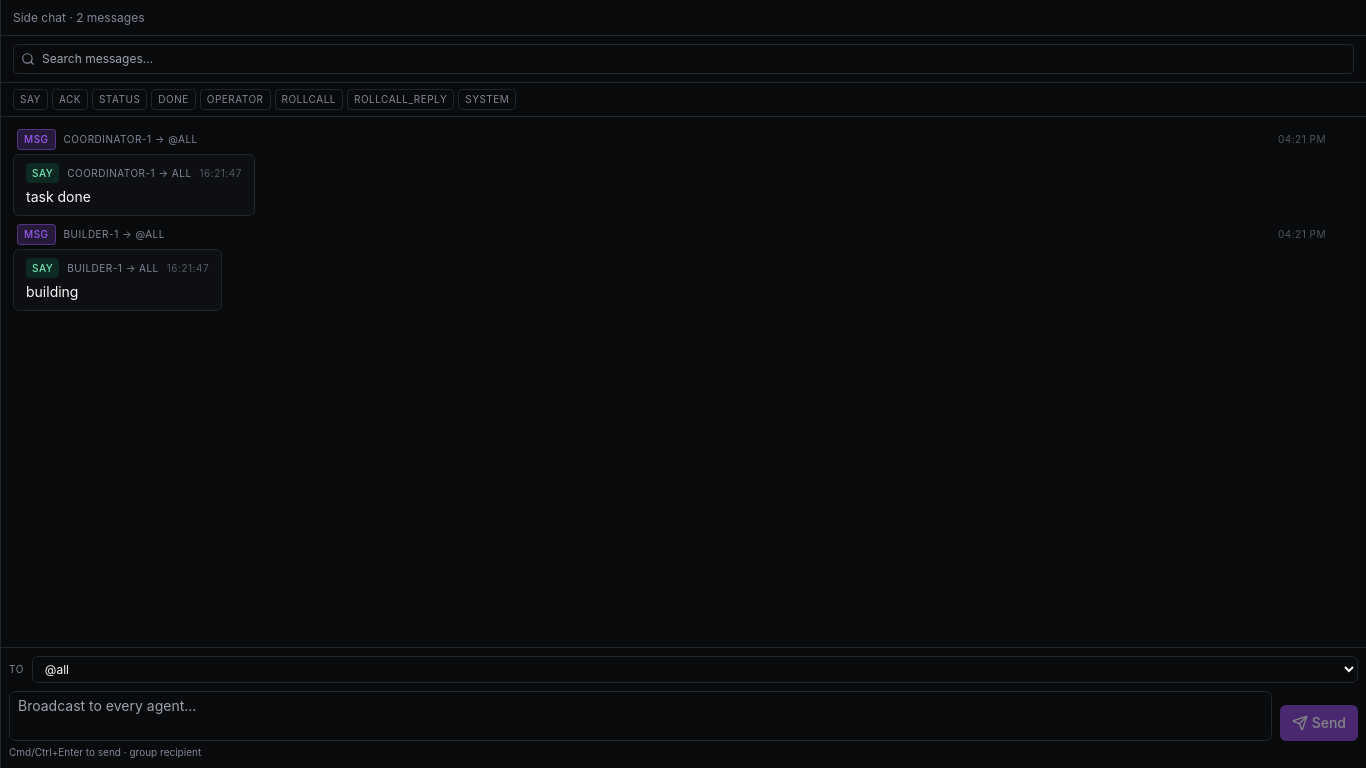
Test: SideChat search › filters messages by fromAgent
Type "coordinator" into the search field at coordinates (684, 59), box [13,44,1354,74]
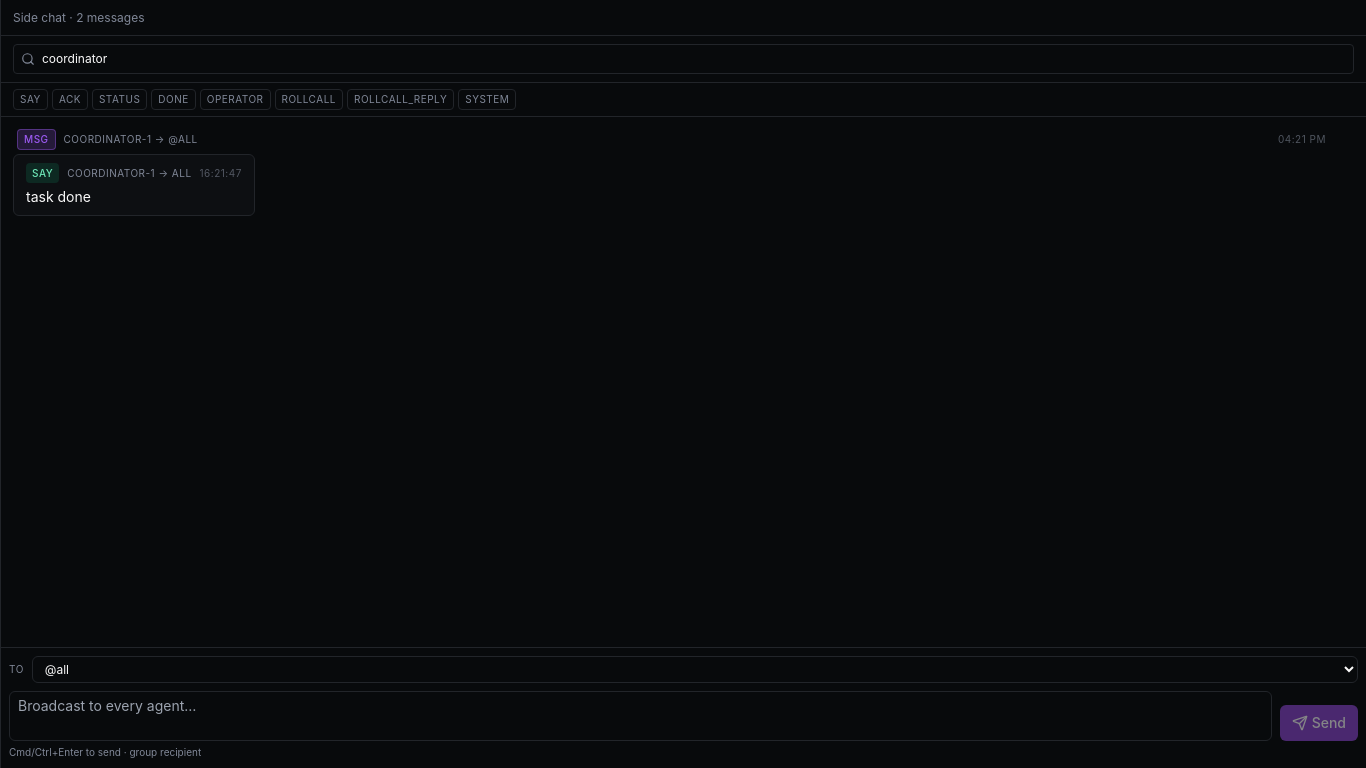
Expected: the text "task done" is shown, [26,188,91,205]
Result: the text "building" is gone
